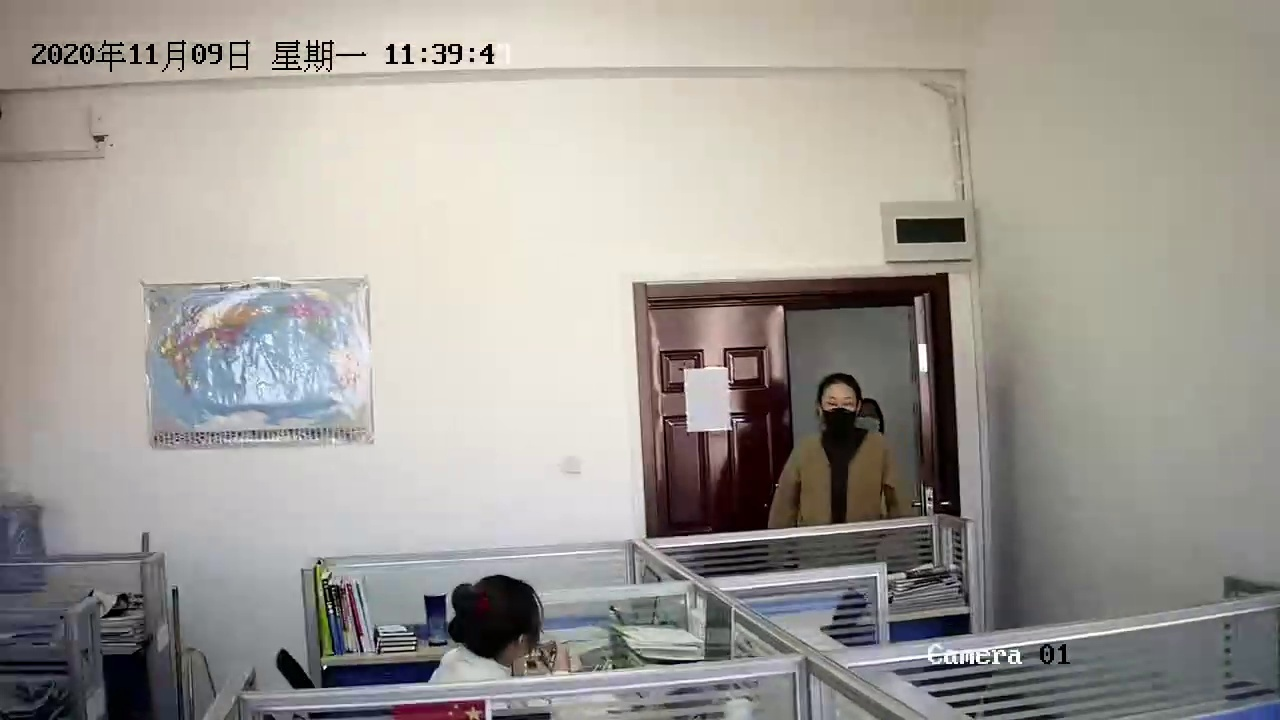mask: (815, 375, 857, 432), (859, 388, 888, 436)
